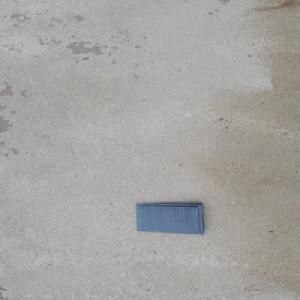PlasticPart: (134, 202, 206, 234)
